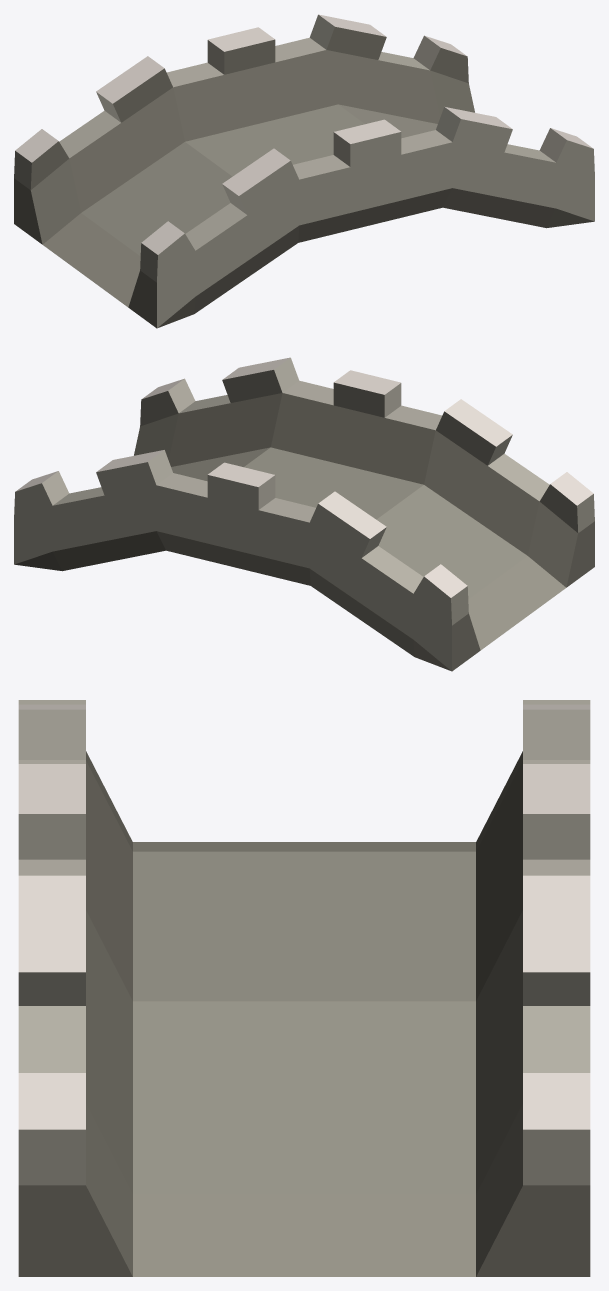
Rendered from TB_Str_Bridge.FBX.
3 renders of one model, top to bottom at view 1: azimuth 30°, elevation 25°; view 2: azimuth 150°, elevation 25°; view 3: azimuth 270°, elevation 25°, orthographic. The views are drawn at different scales.
Visible parts, largest first — view 1: TB_Str_Bridge; view 2: TB_Str_Bridge; view 3: TB_Str_Bridge.
Part boxes in pixels (x1,y1,x2,y2): TB_Str_Bridge: [14, 14, 594, 328]; TB_Str_Bridge: [14, 357, 594, 671]; TB_Str_Bridge: [18, 700, 590, 1276].
Bounding box in the file's own units: 10 × 2.99 × 5.65.
